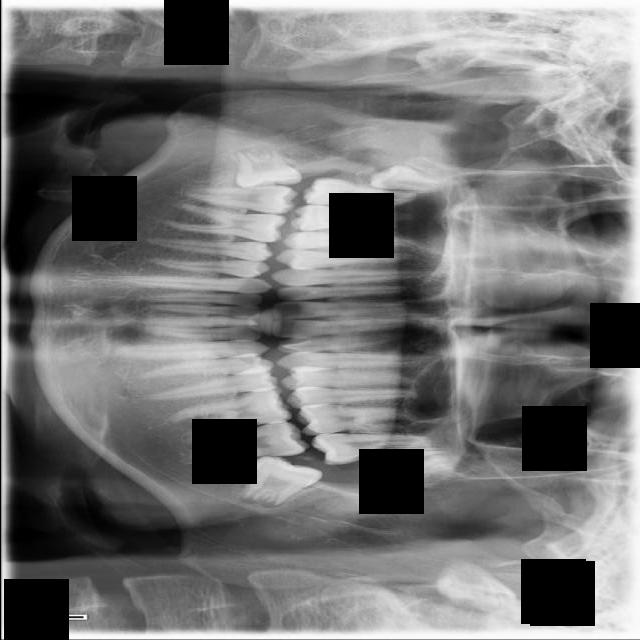3M ESPE Implant: (368, 163, 451, 191)
73: (80, 605, 100, 613)
BioHorizons Implant: (310, 432, 430, 466)
BioLife Implant: (365, 436, 455, 490)
Biomet 3i Implant: (238, 449, 323, 522)
Blue Sky Bio Implant: (189, 417, 310, 464)
Caries: (299, 177, 415, 209)
Implant: (186, 185, 296, 213)
Keystone Dental Implant: (233, 147, 303, 193)
